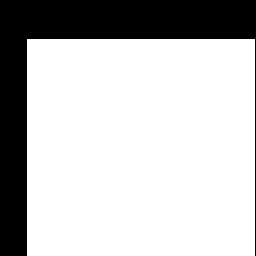rumex: (27, 39, 254, 256)
